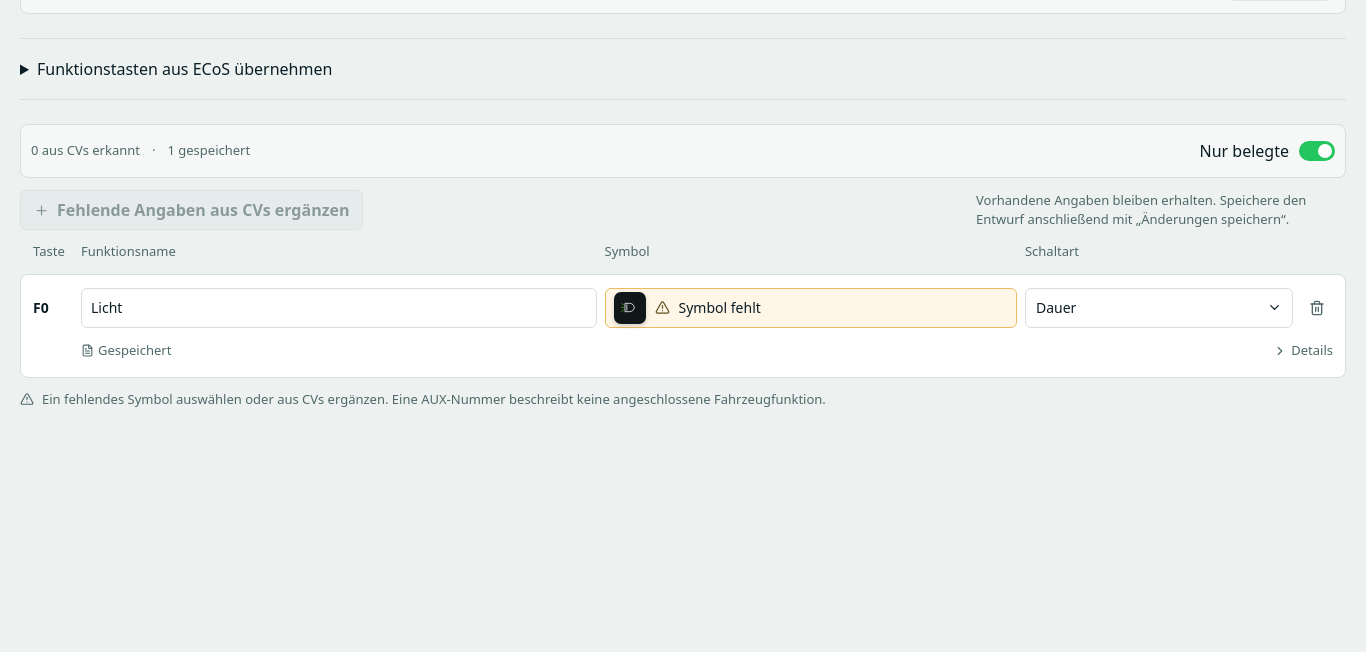
Test: makes ECoS keys available for manual review without creating function changes
This screenshot has width=1366, height=652.
Click the heading "Funktionstasten aus ECoS übernehmen": (185, 69) [37,58,332,80]
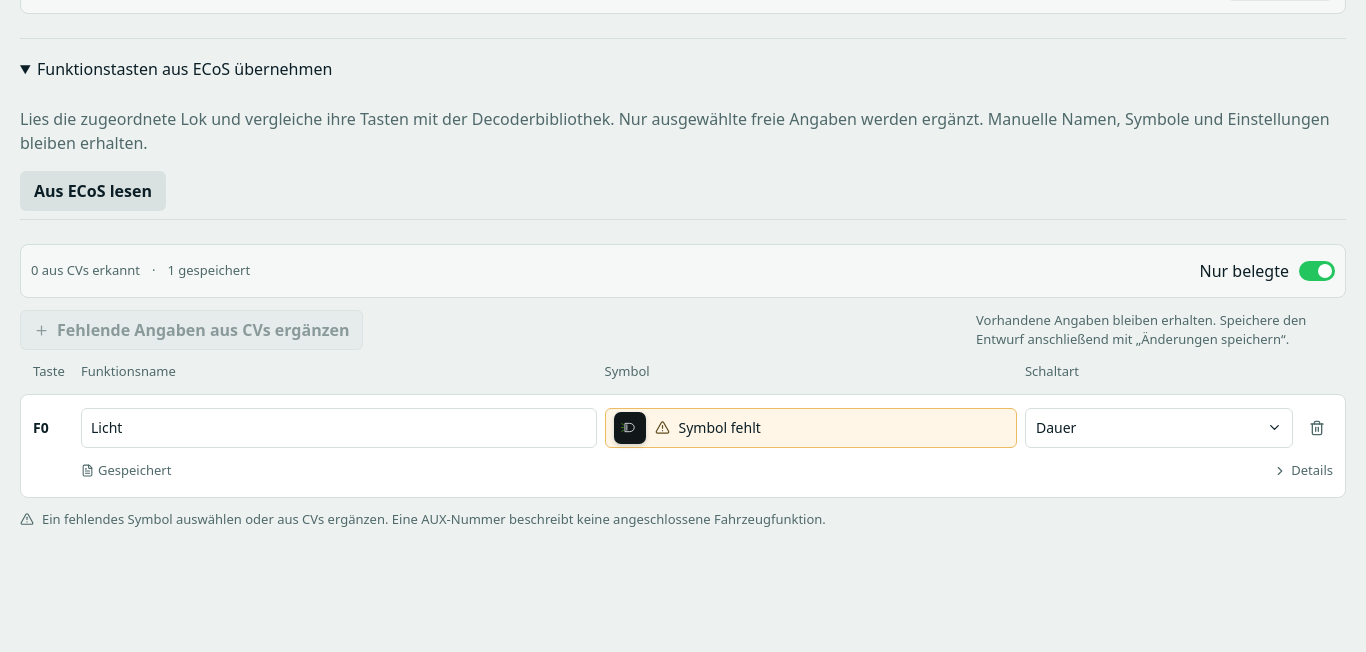
Click the button "Aus ECoS lesen": (93, 191) [20,171,166,211]
(page scrolled)
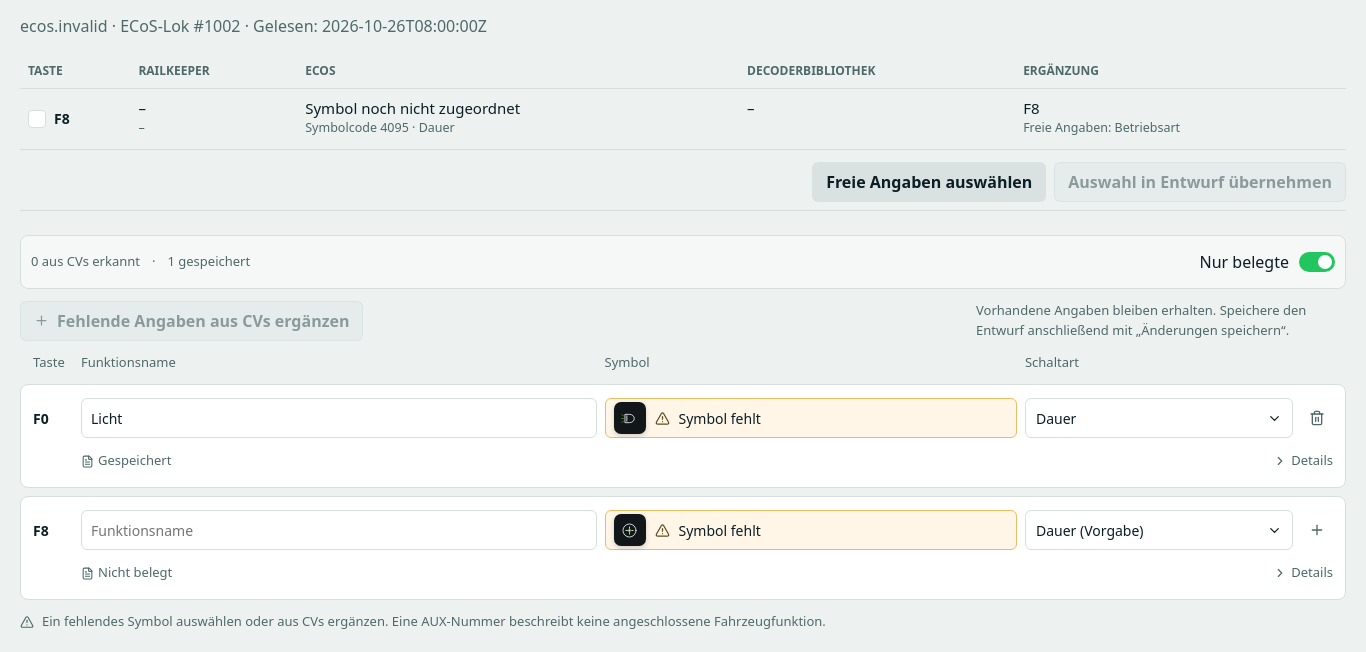
Expected: the field named "F8 Funktionsname" is shown, [81,510,596,550]
